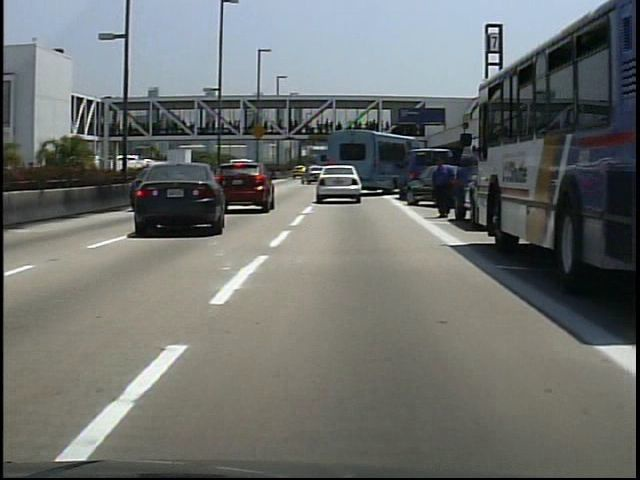person: (429, 157, 455, 224)
